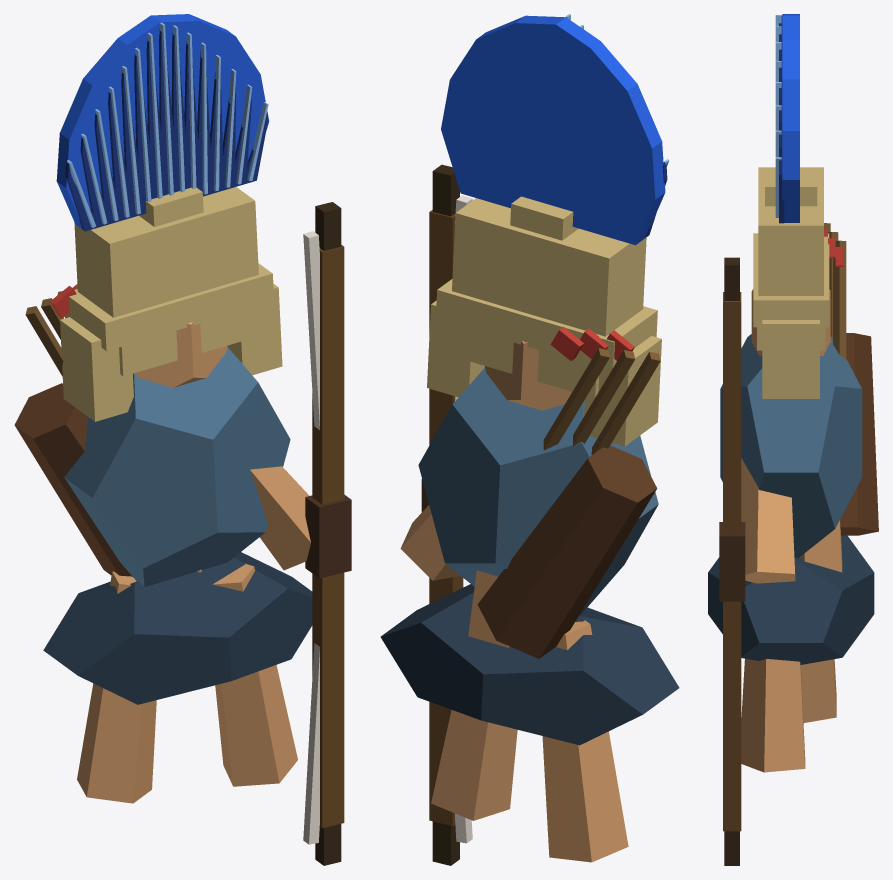
Rendered from romanSoldier_longbow_blue.glb.
3 views of the same model, side by side, from view 1: azimuth 30°, elevation 25°; view 2: azimuth 150°, elevation 25°; view 3: azimuth 270°, elevation 25° (orthographic). The views are drawn at different scales.
Parts seen in each view (by area): view 1: soldier-helm, n3, n5, soldier-crest, soldier-crest-feathers, soldier-crest-stems, n24, n27, n54, n59, n75, n18 (+7 smaller); view 2: soldier-crest, soldier-helm, n5, n3, n75, n27, n24, n54, n7, n59, n18, n85 (+6 smaller); view 3: n3, soldier-helm, n5, n24, n18, n54, n59, n75, soldier-crest, n27, n51, n85 (+7 smaller).
Boxes of the visible parts, x1=… form: soldier-helm: x1=60, y1=187, x2=282, y2=421; n3: x1=64, y1=347, x2=290, y2=586; n5: x1=43, y1=552, x2=312, y2=704; soldier-crest: x1=56, y1=14, x2=269, y2=228; soldier-crest-feathers: x1=65, y1=29, x2=268, y2=231; soldier-crest-stems: x1=67, y1=22, x2=268, y2=227; n24: x1=212, y1=563, x2=297, y2=786; n27: x1=77, y1=571, x2=156, y2=803; n54: x1=312, y1=245, x2=344, y2=504; n59: x1=312, y1=572, x2=344, y2=828; n75: x1=14, y1=383, x2=132, y2=576; n18: x1=250, y1=466, x2=310, y2=570; soldier-crest: x1=441, y1=15, x2=665, y2=245; soldier-helm: x1=427, y1=196, x2=661, y2=446; n5: x1=380, y1=584, x2=679, y2=745; n3: x1=418, y1=368, x2=658, y2=615; n75: x1=477, y1=445, x2=657, y2=658; n27: x1=542, y1=620, x2=628, y2=862; n24: x1=431, y1=710, x2=517, y2=820; n54: x1=429, y1=210, x2=455, y2=444; n7: x1=484, y1=340, x2=571, y2=410; n59: x1=429, y1=575, x2=463, y2=826; n18: x1=400, y1=505, x2=459, y2=580; n85: x1=543, y1=348, x2=609, y2=450; n3: x1=720, y1=334, x2=862, y2=557; soldier-helm: x1=753, y1=167, x2=829, y2=398; n5: x1=708, y1=535, x2=874, y2=664; n24: x1=741, y1=658, x2=805, y2=772; n18: x1=741, y1=458, x2=795, y2=583; n54: x1=723, y1=292, x2=741, y2=533; n59: x1=723, y1=601, x2=741, y2=831; n75: x1=840, y1=333, x2=878, y2=535; soldier-crest: x1=782, y1=14, x2=799, y2=222; n27: x1=800, y1=659, x2=836, y2=722; n51: x1=719, y1=522, x2=745, y2=601; n85: x1=833, y1=240, x2=846, y2=359.
Size of the model in its own units: 0.44 by 1.32 by 0.261.
